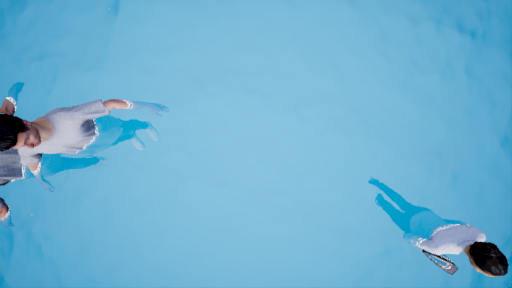person: (1, 87, 173, 196), (366, 177, 512, 283)
